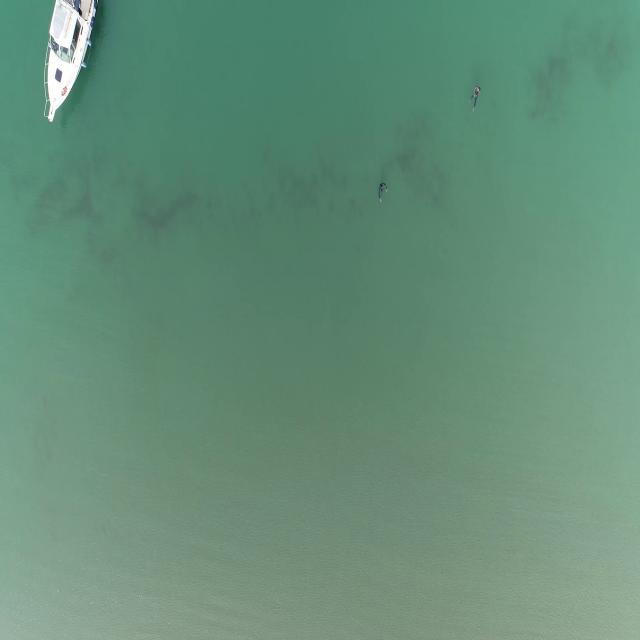boat: (38, 1, 98, 126)
person: (470, 87, 482, 115), (375, 183, 389, 206)
